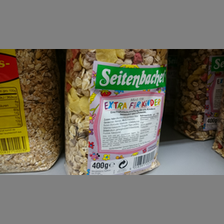cereal: (65, 49, 167, 175), (1, 49, 59, 172)
